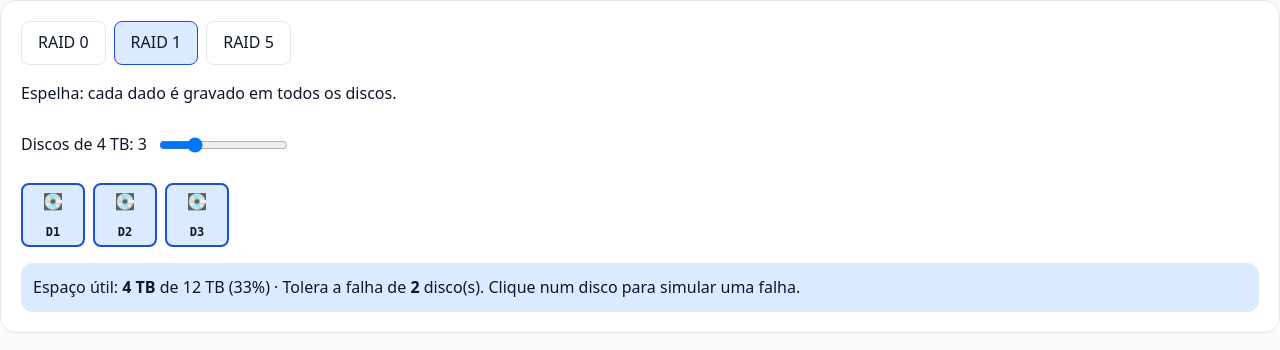
Test case: raid › RAID 1 tolera 1 falha e RAID 0 não
What coordinates should you click on to do the following:
click the button named "Disco 1: funcionando"
I would click on:
 (53, 215)
Its box is [21,183,85,247].
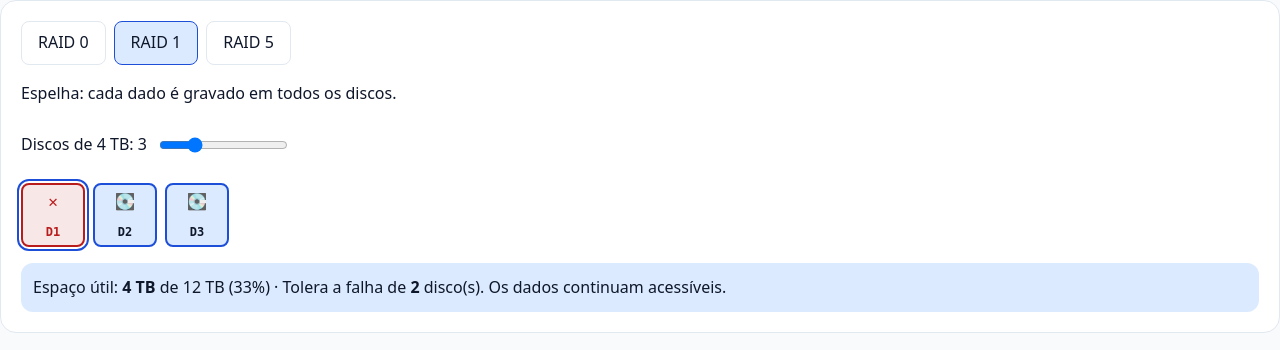
expect the message shows "Os dados continuam acessíveis": met, box [488,276,726,298]
What coordinates should you click on to do the following:
click the button "RAID 0"
I would click on:
 (63, 43)
Its box is [21,21,106,65].
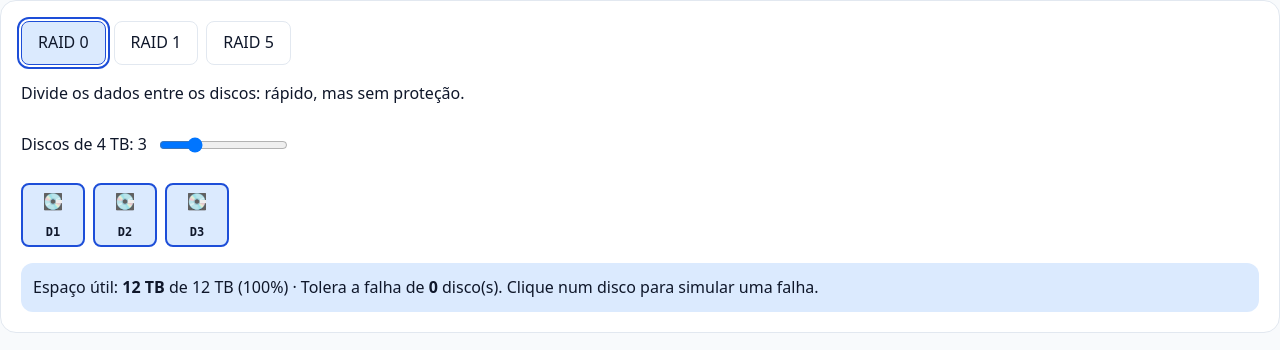
What coordinates should you click on to do the following:
click the button named "Disco 1: funcionando"
I would click on:
 (53, 215)
Its box is [21,183,85,247].
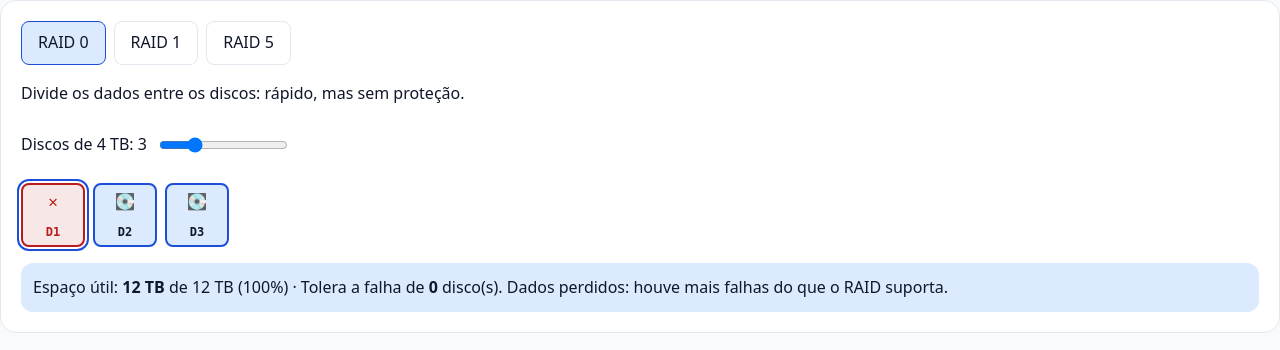
expect the message shows "Dados perdidos": met, box [507,276,948,298]
